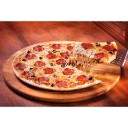pepperonipizza: (13, 41, 118, 89)
